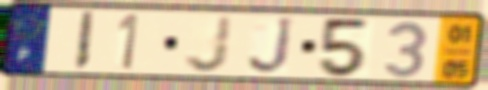1: (115, 12, 142, 73)
3: (381, 18, 431, 80)
5: (314, 16, 378, 80)
I: (70, 10, 98, 73)
J: (182, 14, 236, 75), (245, 16, 296, 77)
